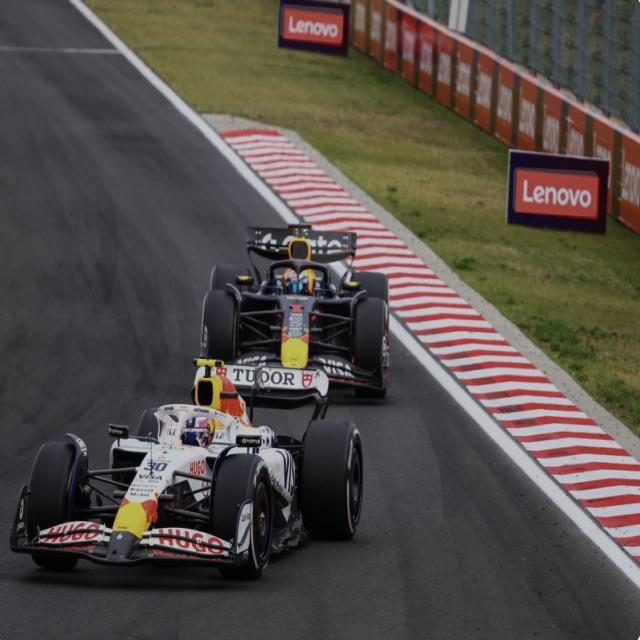Racing Bulls: (8, 354, 364, 582)
Red Bull: (200, 221, 390, 405)
